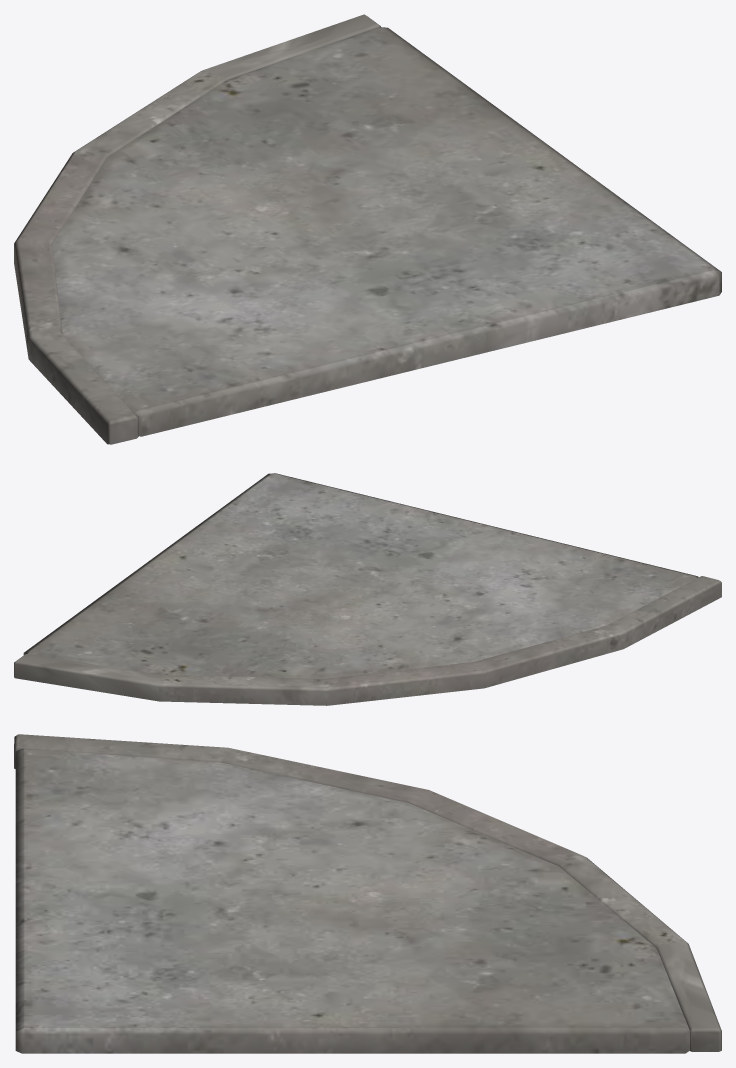
The model's file is SidewalkCornerLarge.glb.
3 renders of one model, top to bottom at view 1: azimuth 30°, elevation 25°; view 2: azimuth 150°, elevation 25°; view 3: azimuth 270°, elevation 25°, orthographic. The views are drawn at different scales.
Visible parts, largest first — view 1: SidewalkCornerLarge_SidewalkMat_0; view 2: SidewalkCornerLarge_SidewalkMat_0; view 3: SidewalkCornerLarge_SidewalkMat_0.
Part boxes in pixels (x1,y1,x2,y2): SidewalkCornerLarge_SidewalkMat_0: (14, 14, 721, 444); SidewalkCornerLarge_SidewalkMat_0: (14, 473, 721, 705); SidewalkCornerLarge_SidewalkMat_0: (14, 734, 721, 1053).
Size of the model in its own units: 4.25 by 0.1497 by 4.25.
1 material, 1 textured.
